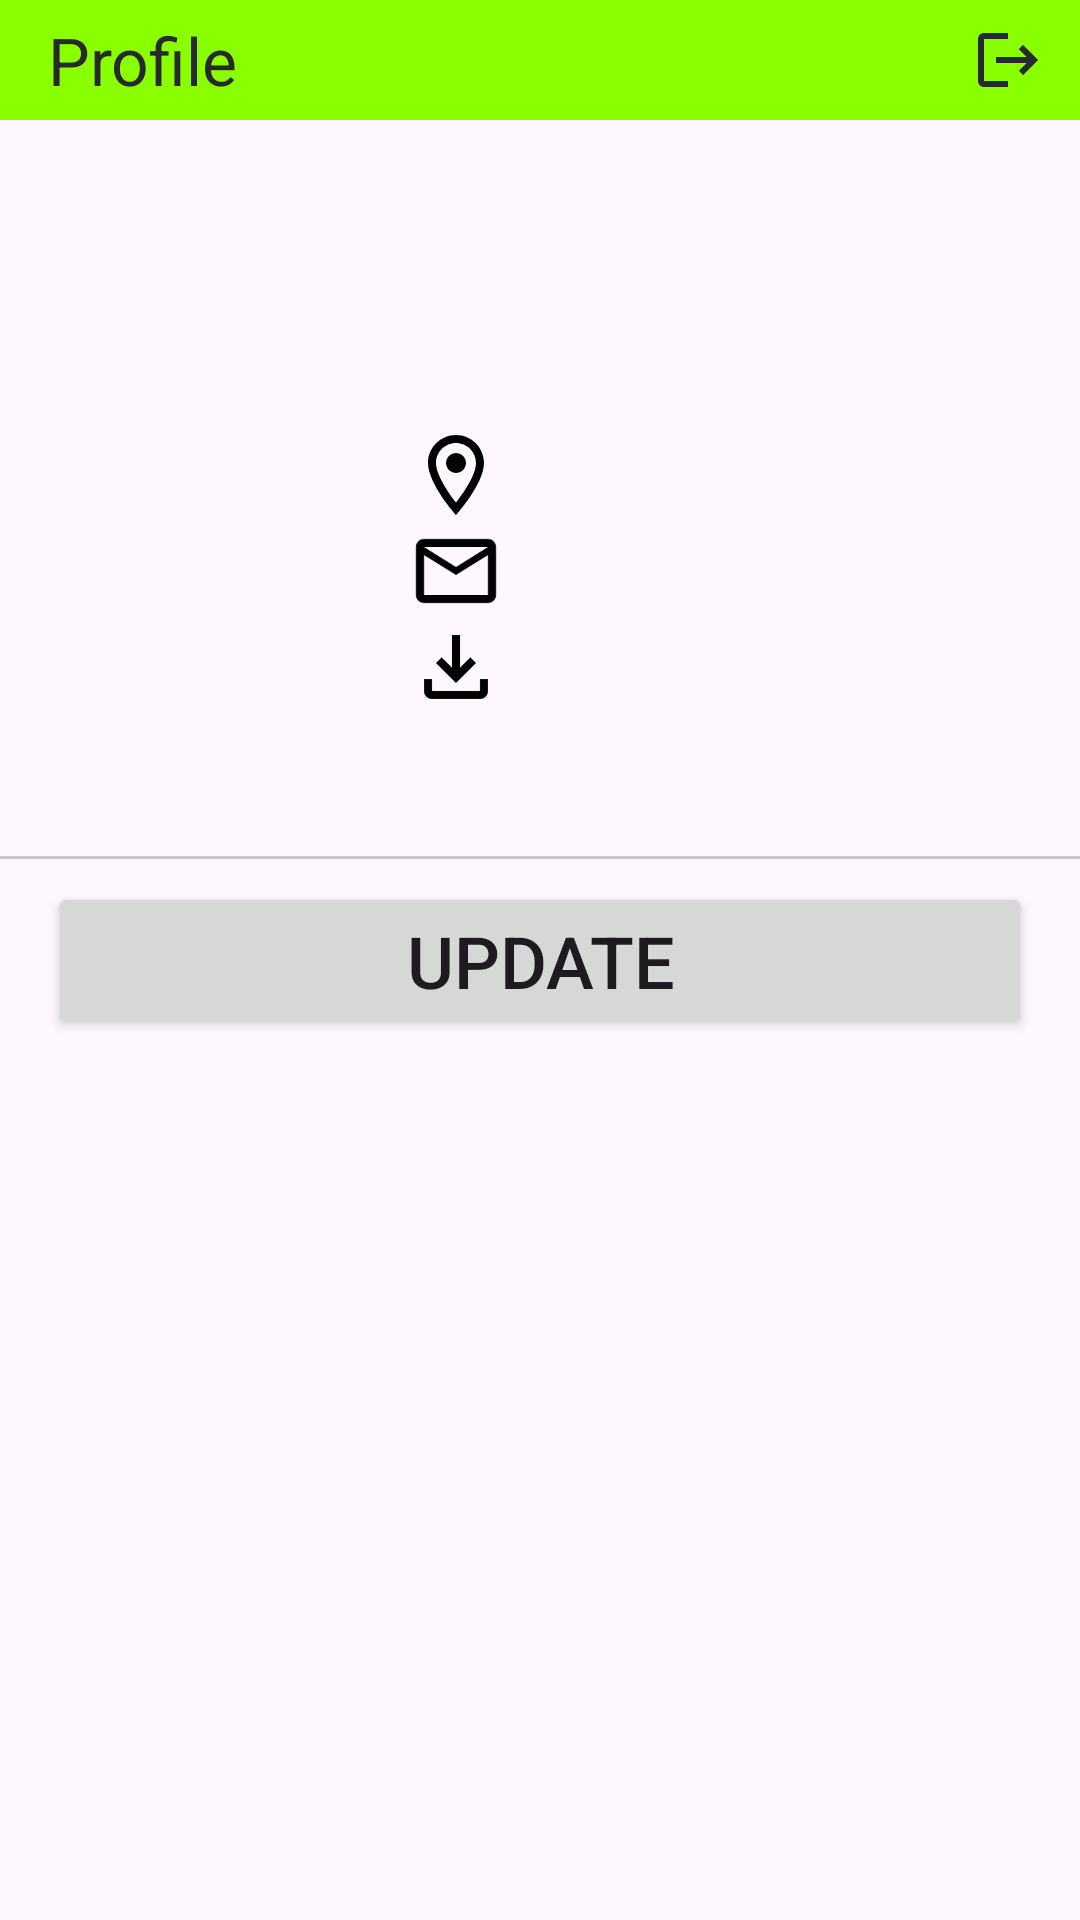

Icon bounding boxes for this 1080*1920 phone screenshot, format [x1=x1, y1=y1, x2=x2, y2=y2]:
download: [x1=424, y1=635, x2=488, y2=699]
email: [x1=415, y1=538, x2=497, y2=604]
location: [x1=428, y1=435, x2=484, y2=515]
